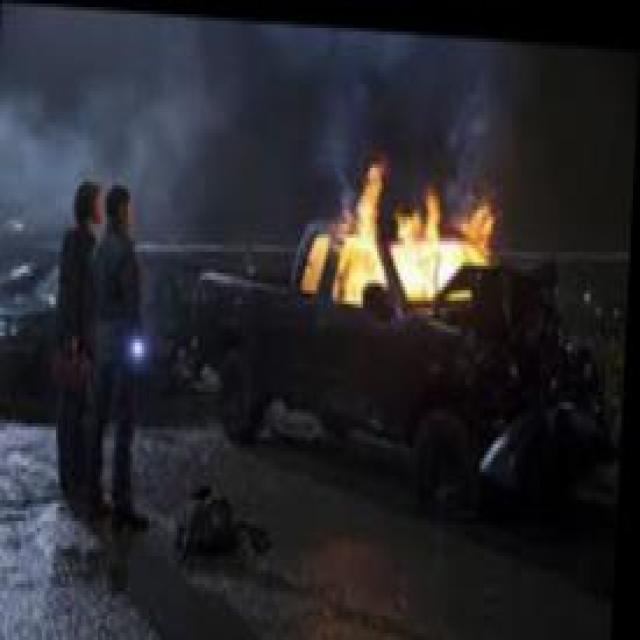Fire: (296, 140, 506, 326)
Smoke: (0, 0, 358, 178)
